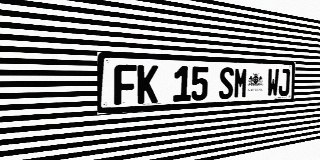1: (173, 66, 191, 102)
5: (191, 66, 208, 101)
F: (114, 64, 137, 105)
J: (278, 69, 290, 96)
K: (137, 65, 158, 104)
M: (233, 67, 248, 99)
S: (219, 67, 234, 99)
W: (267, 68, 279, 97)
